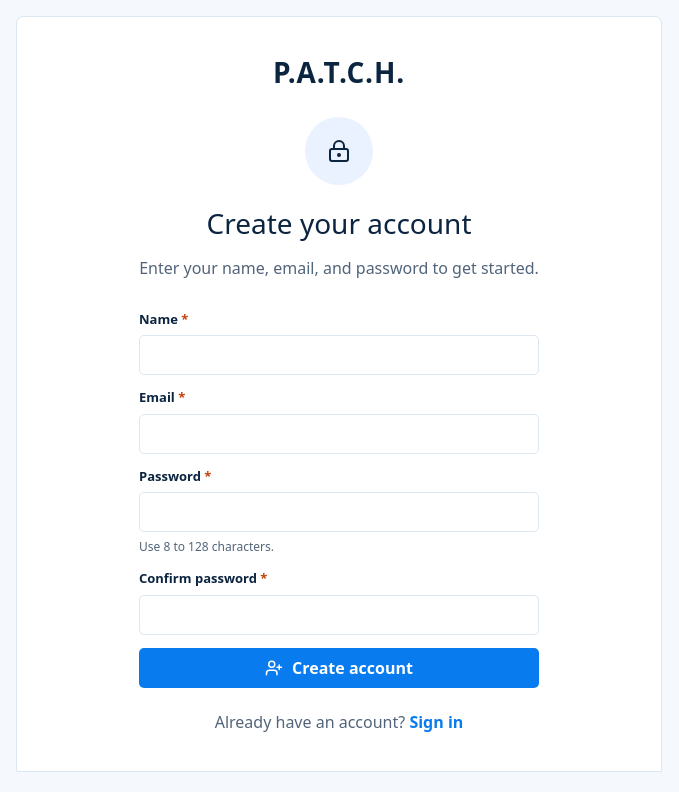
Test: Phase 1 credentials UI › rejects mismatched passwords before contacting the API
Type "Jane Doe" into the field labelled "Name *" at (339, 355), box [139,335,539,375]
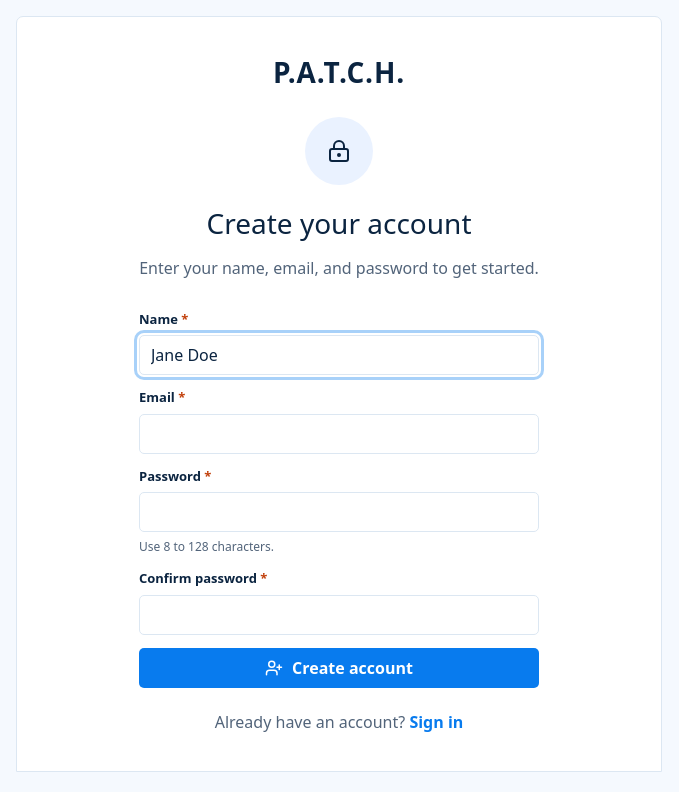
Type "jane@example.com" into the field labelled "Email *" at (339, 434), box [139,414,539,454]
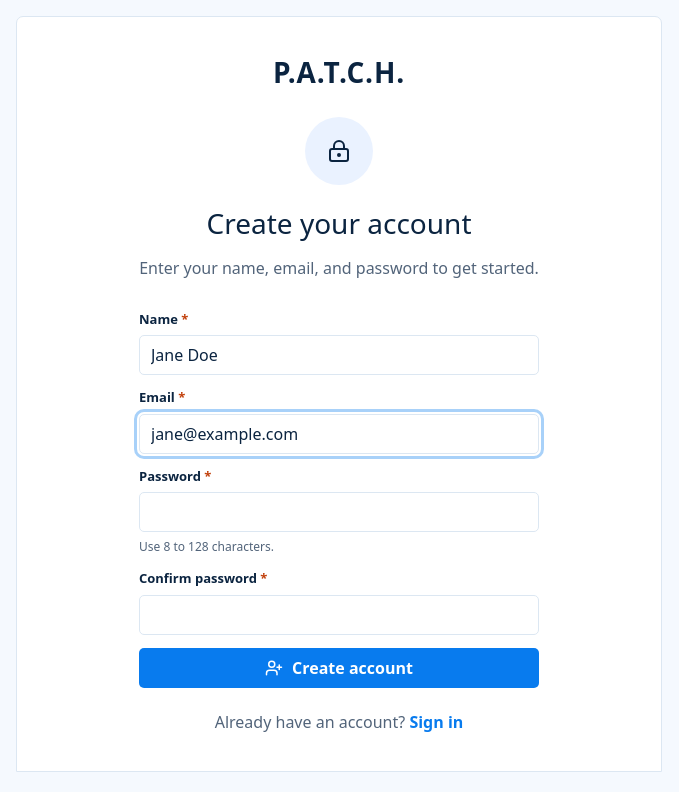
Type "strong-pass" into the password field labelled "Password * Use 8 to 128 characters." at (339, 512), box [139,492,539,532]
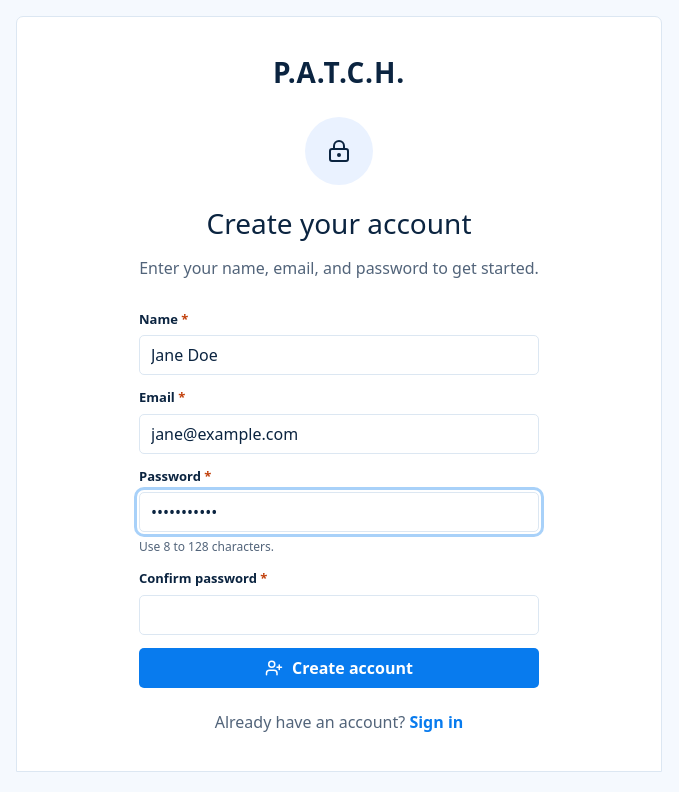
Type "other-pass" into the password field labelled "Confirm password *" at (339, 615), box [139,595,539,635]
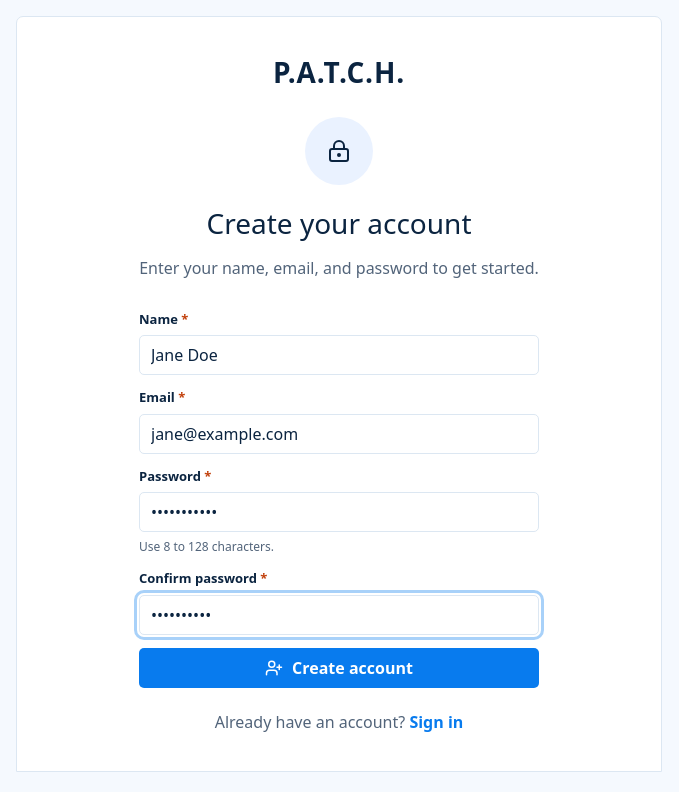
Click the button "Create account" at (339, 668), box [139,648,539,688]
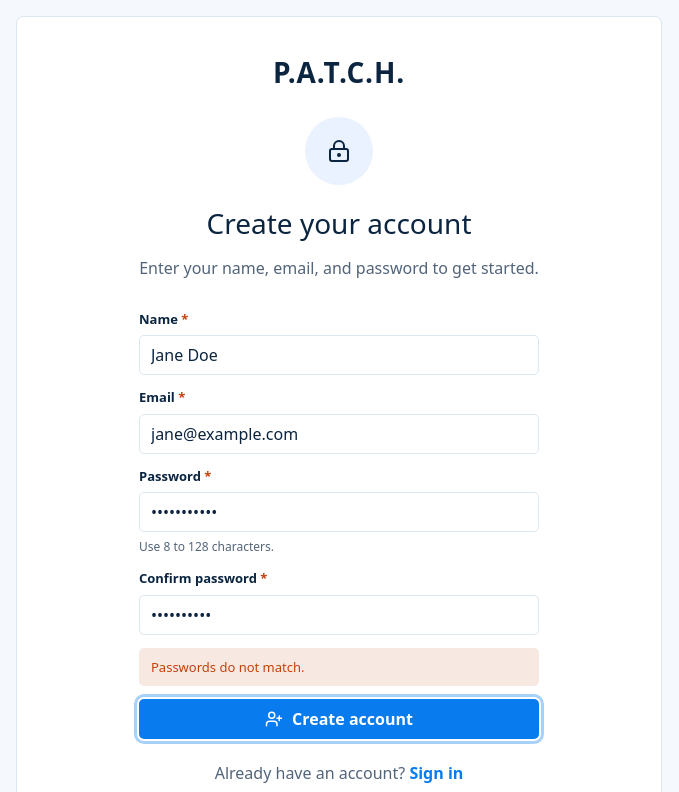
Expected: the message reads "Passwords do not match.", [151,658,304,676]
